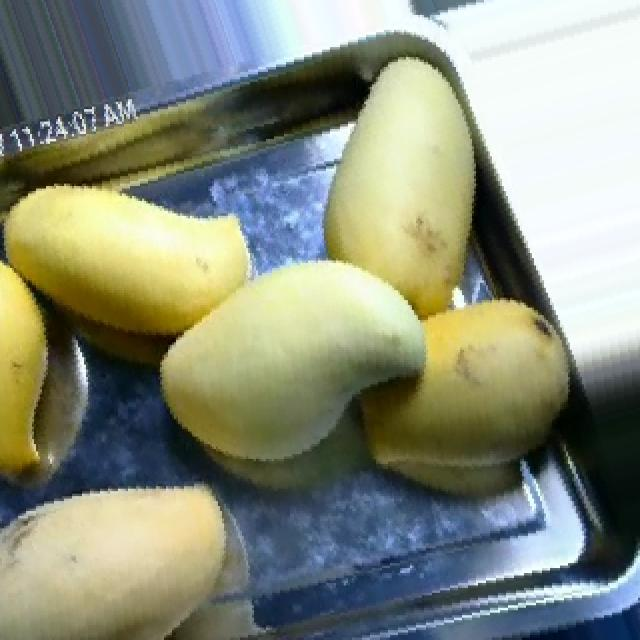mango: (158, 258, 426, 461), (358, 295, 568, 494), (322, 55, 476, 315), (2, 181, 250, 335), (0, 481, 226, 638), (0, 253, 48, 476)
